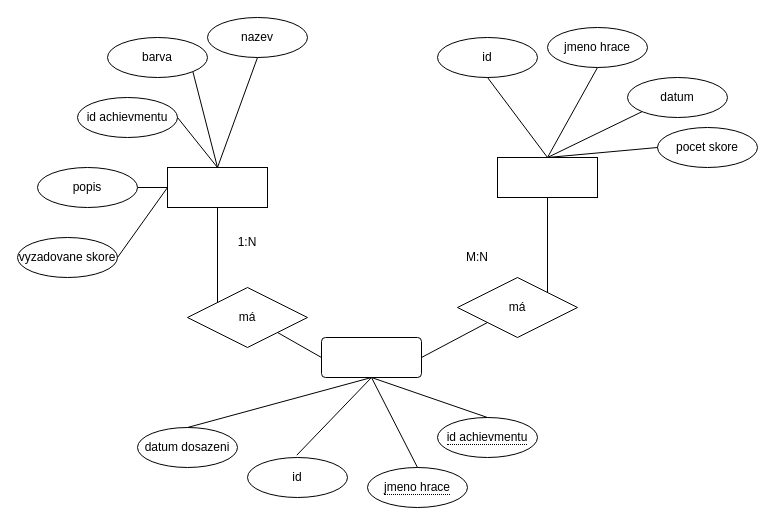
Image size: 775x525. Some labels were removed from this diagram. The shapes that lost their labels are listed below. From the top down, each one's box as (x1, y1, x2, y2) in pixels, then its label:
(166, 166, 268, 208): achievmenty
(496, 156, 598, 198): hrac/skore
(320, 336, 422, 378): dosazene achievmenty
